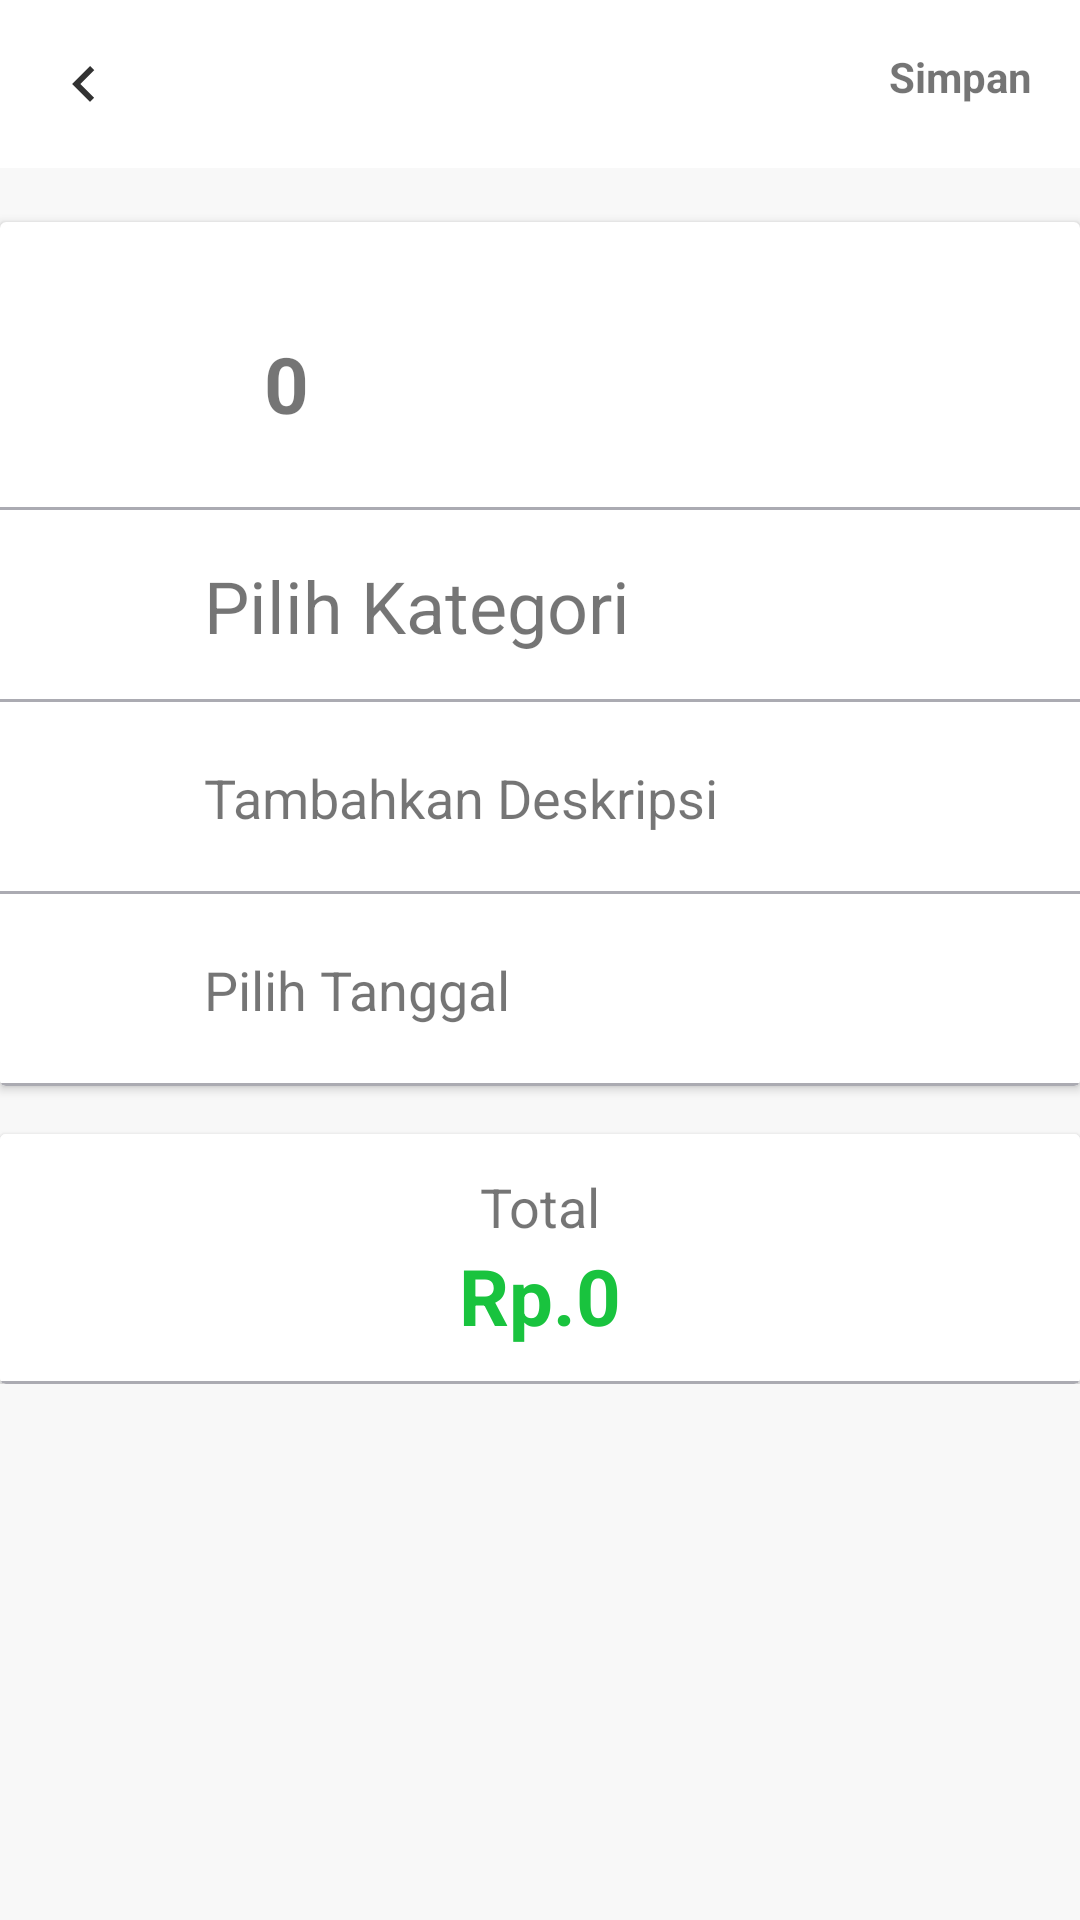

Icon click points for this 1080 × 1920 phone screenshot, format point (x, y):
back arrow: point (83, 84)
